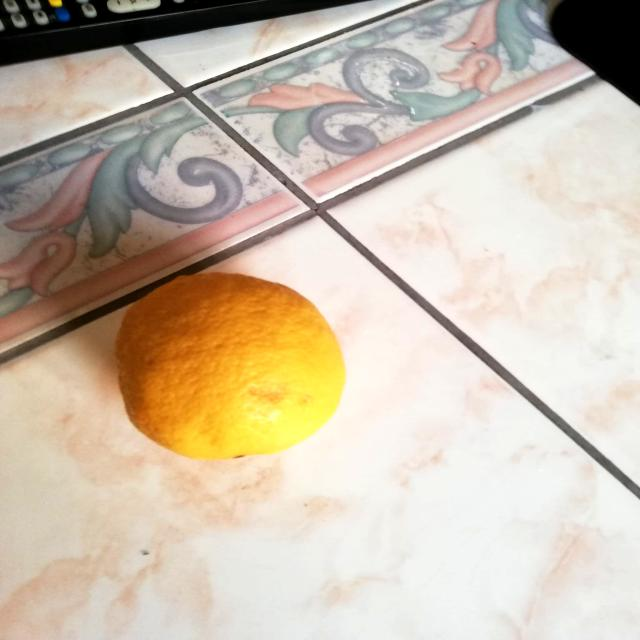lemon: (104, 262, 356, 466)
